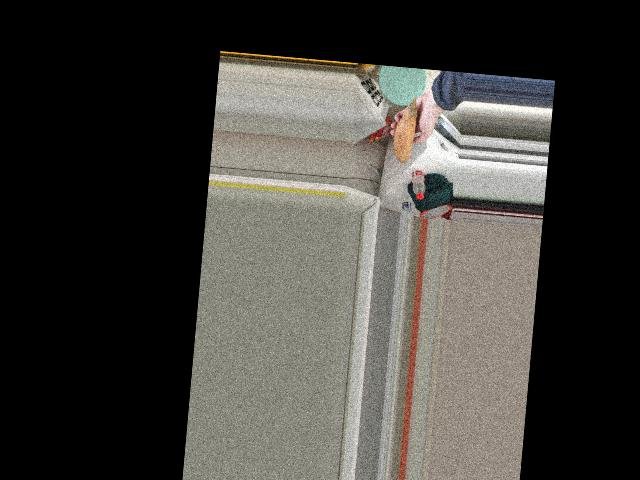sweet_potato: (392, 100, 418, 157)
